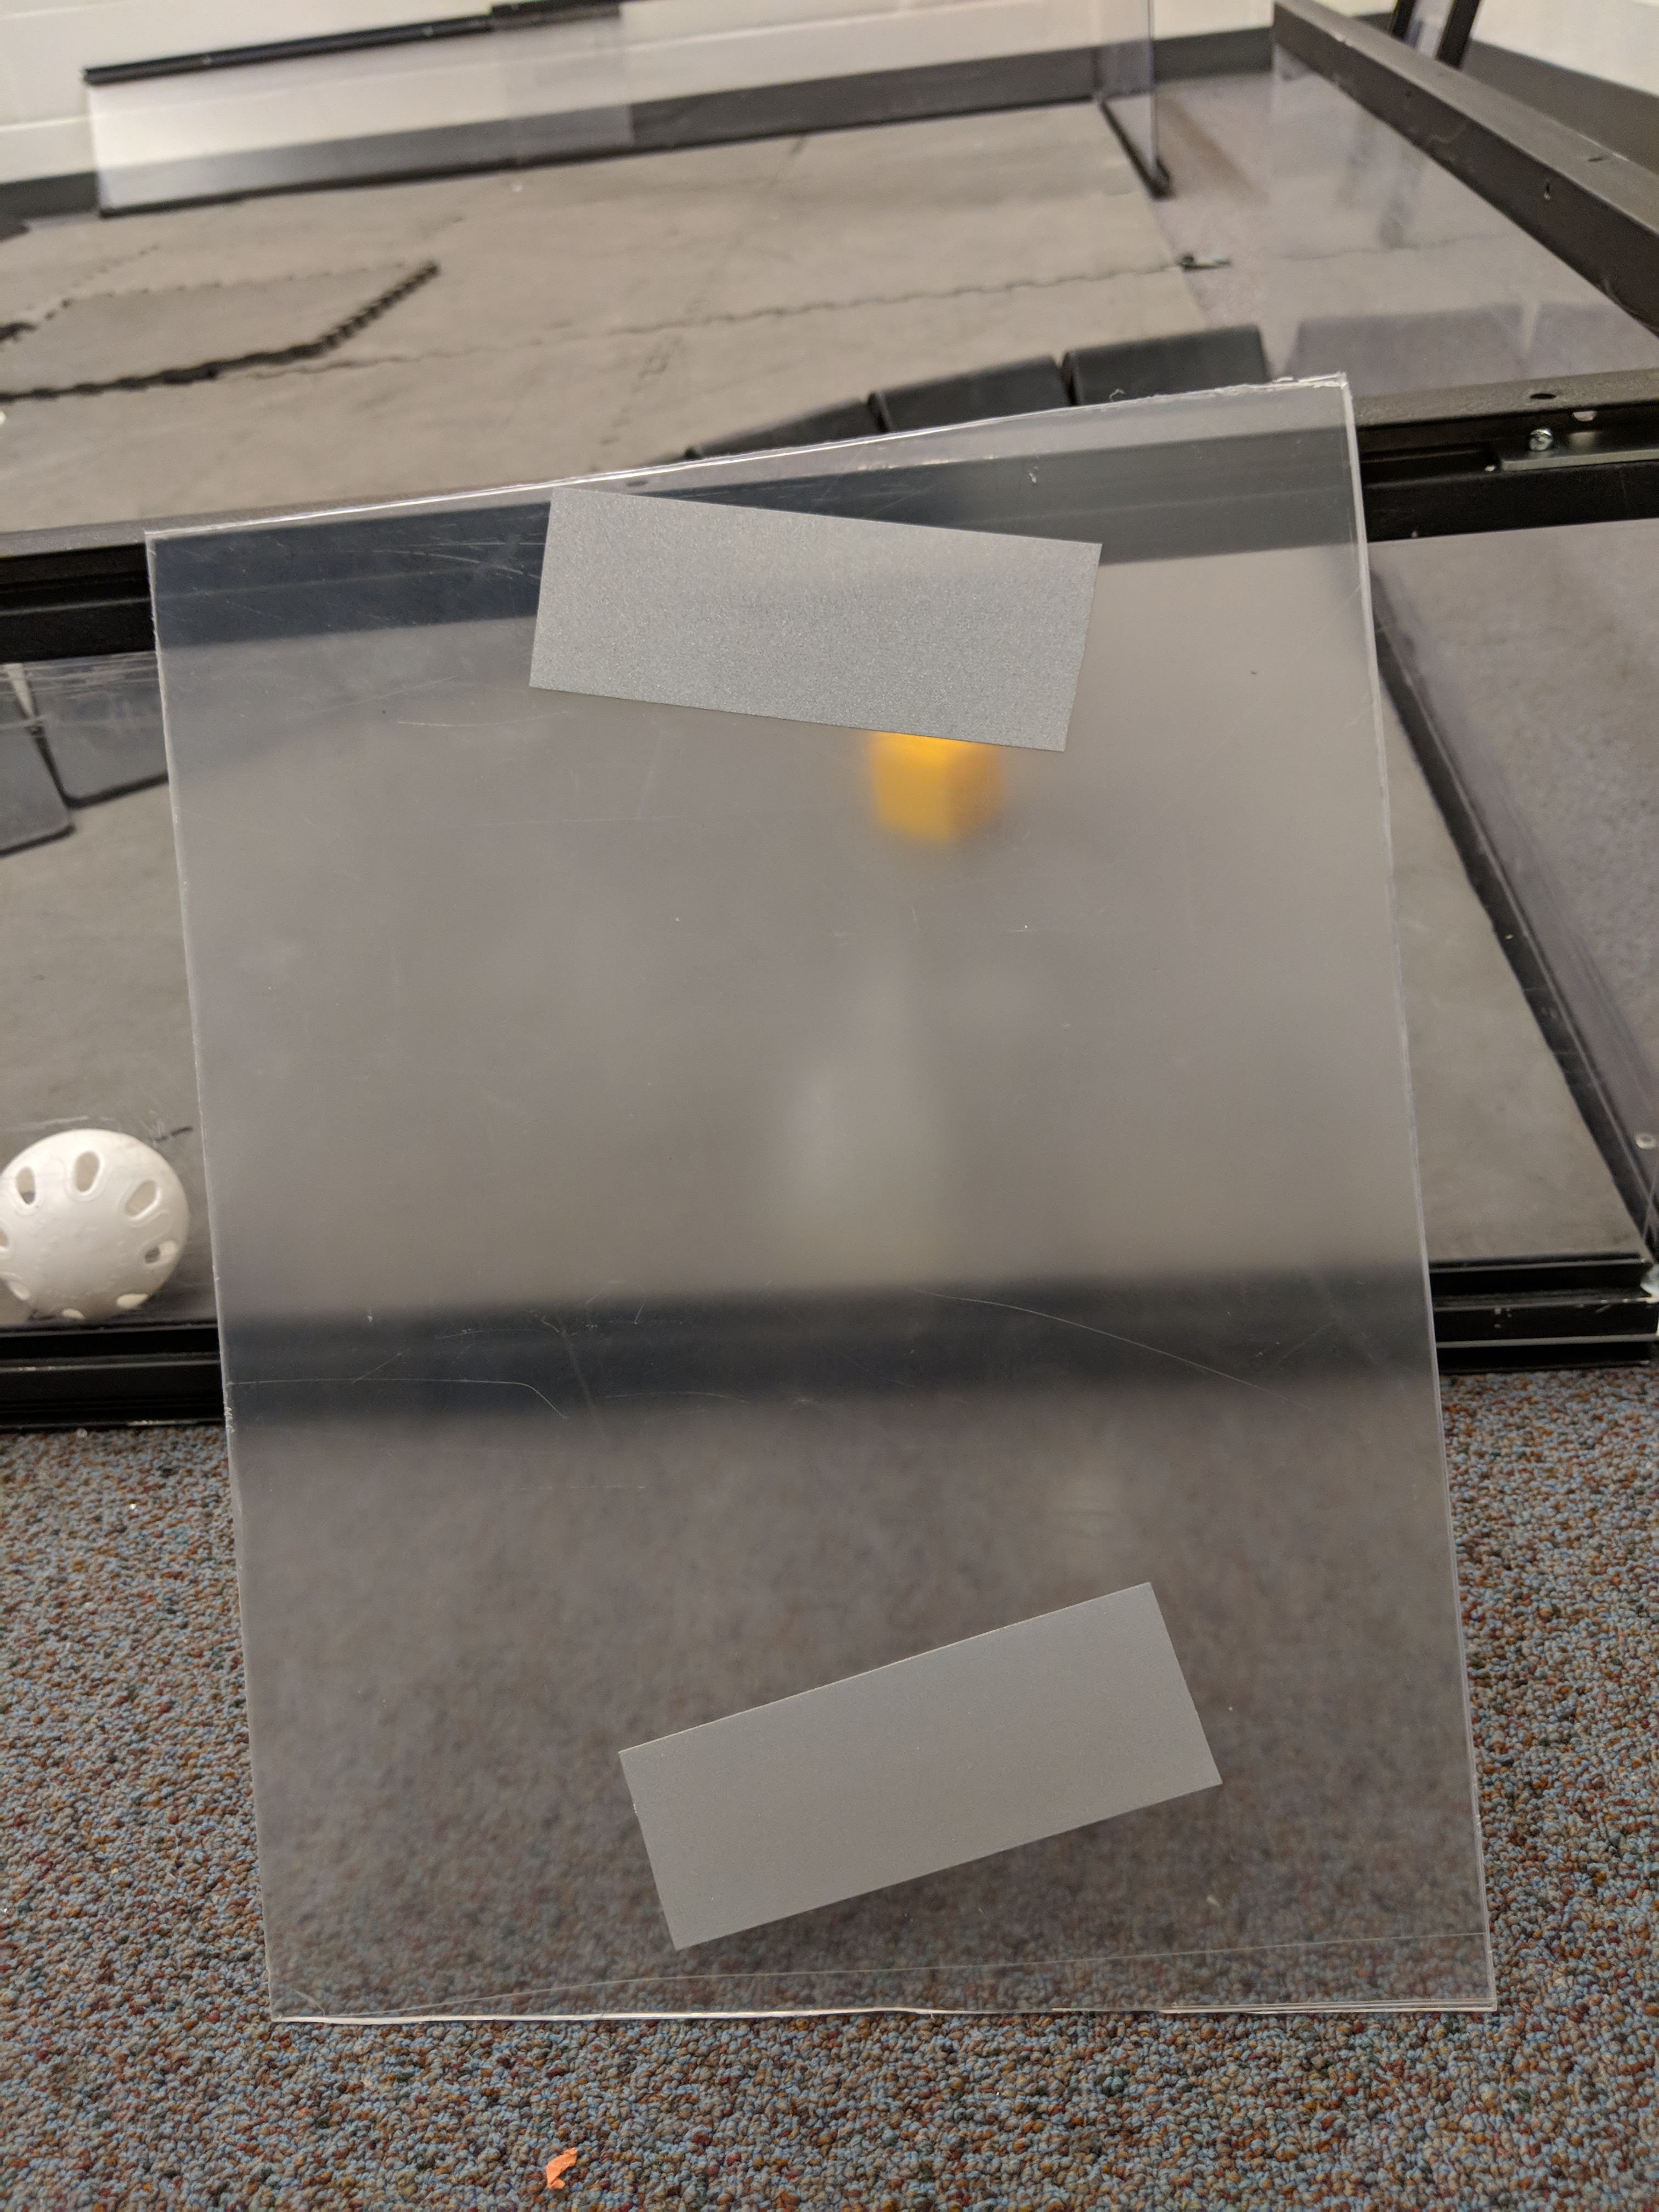vision_target: (509, 472, 1243, 1973)
